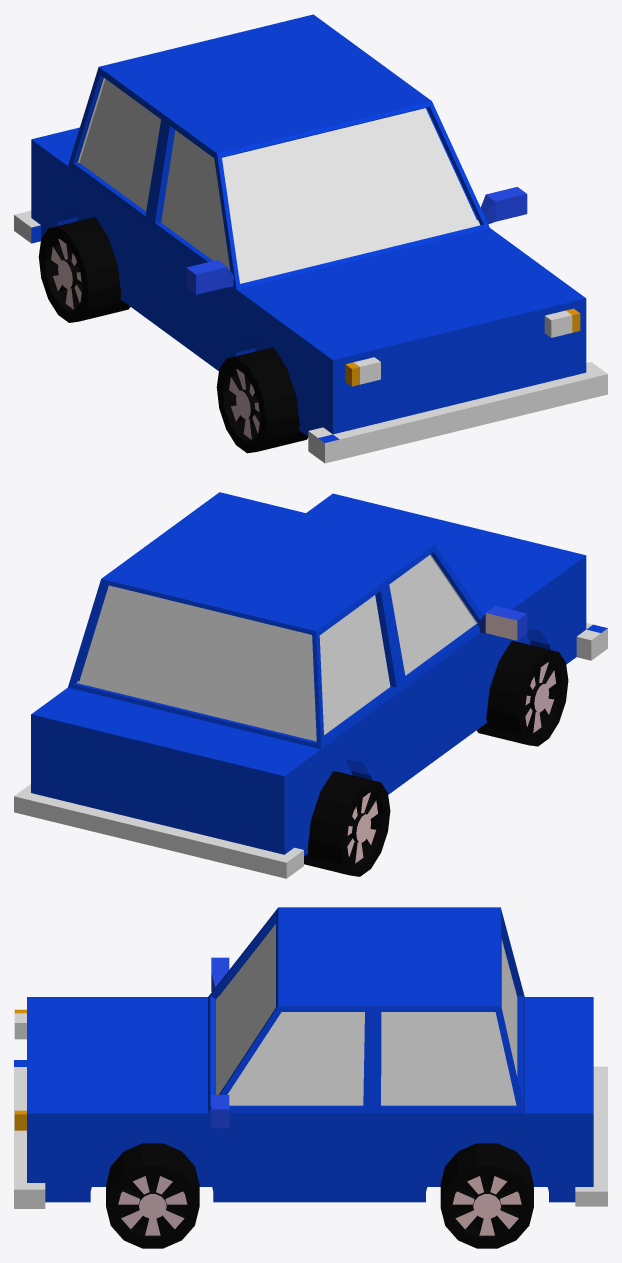
File: car 1.fbx
3 views of the same model, one above another, from view 1: azimuth 30°, elevation 25°; view 2: azimuth 150°, elevation 25°; view 3: azimuth 270°, elevation 25° (orthographic). The views are drawn at different scales.
Parts seen in each view (by area): view 1: Coche, RuedaFrontalDerecha, RuedaTraseraDerecha, RetrovisorIzquierdo, RetrovisorDerecho, FaroIzquierdo, FaroDerecho; view 2: Coche, RuedaTraseraDerecha, RuedaFrontalDerecha, RetrovisorDerecho; view 3: Coche, RuedaFrontalIzquierda, RuedaTraseraIzquierda, RetrovisorIzquierdo, RetrovisorDerecho.
Boxes of the visible parts, left/top/right/bottom form: Coche: left=14, top=14, right=607, bottom=463; RuedaFrontalDerecha: left=216, top=347, right=308, bottom=453; RuedaTraseraDerecha: left=38, top=217, right=130, bottom=322; RetrovisorIzquierdo: left=480, top=187, right=527, bottom=224; RetrovisorDerecho: left=186, top=260, right=233, bottom=294; FaroIzquierdo: left=544, top=308, right=580, bottom=337; FaroDerecho: left=345, top=357, right=380, bottom=386; Coche: left=14, top=492, right=607, bottom=878; RuedaTraseraDerecha: left=304, top=771, right=390, bottom=876; RuedaFrontalDerecha: left=476, top=641, right=568, bottom=746; RetrovisorDerecho: left=477, top=606, right=527, bottom=640; Coche: left=14, top=907, right=607, bottom=1208; RuedaFrontalIzquierda: left=106, top=1143, right=199, bottom=1248; RuedaTraseraIzquierda: left=440, top=1143, right=533, bottom=1248; RetrovisorIzquierdo: left=211, top=1095, right=229, bottom=1128; RetrovisorDerecho: left=211, top=957, right=229, bottom=991.
Bounding box in the file's own units: 2.62 × 1.78 × 4.32.
